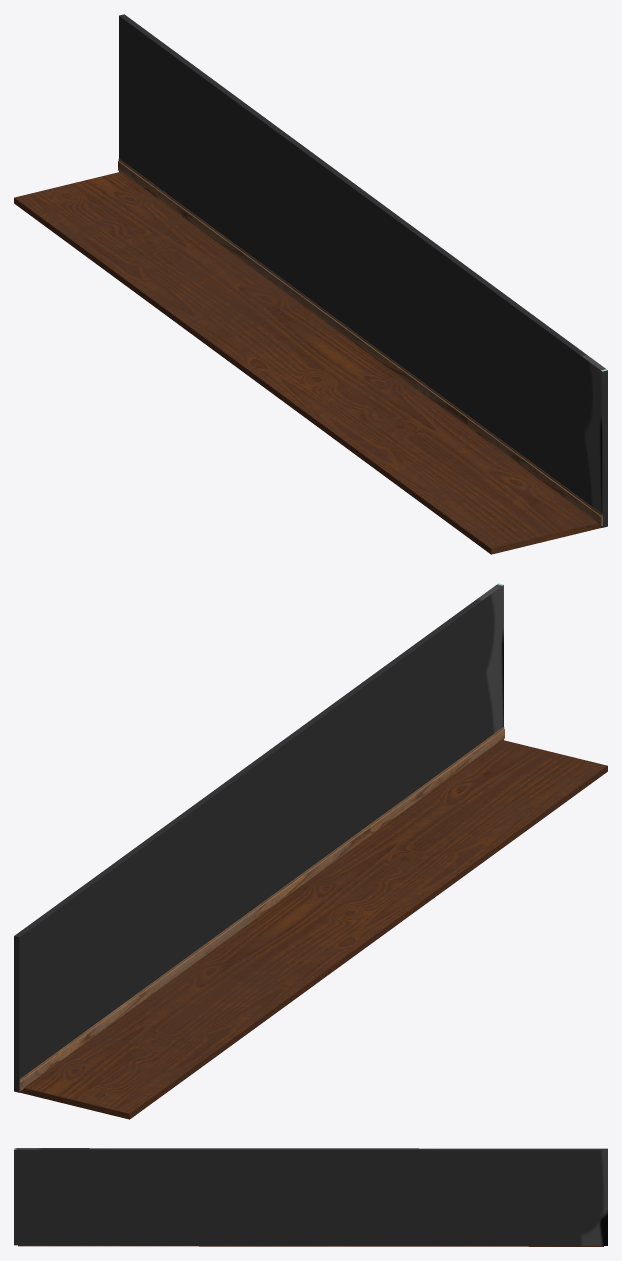
The model's file is LobbyScene2.glb.
3 views of the same model, one above another, from view 1: azimuth 30°, elevation 25°; view 2: azimuth 150°, elevation 25°; view 3: azimuth 270°, elevation 25° (orthographic). The views are drawn at different scales.
Visible parts, largest first — view 1: Object_10, Object_5, Object_2; view 2: Object_10, Object_5, Object_2; view 3: Object_10, Object_5.
Boxes of the visible parts, <box> form: Object_10: <box>119,14,607,527</box>; Object_5: <box>14,171,601,554</box>; Object_2: <box>118,159,602,525</box>; Object_10: <box>14,583,503,1092</box>; Object_5: <box>20,740,607,1119</box>; Object_2: <box>18,727,504,1090</box>; Object_10: <box>14,1148,607,1245</box>; Object_5: <box>18,1245,603,1246</box>.
Bounding box in the file's own units: 16.27 × 21.45 × 119.
Materials: 3 (3 with a texture image).
